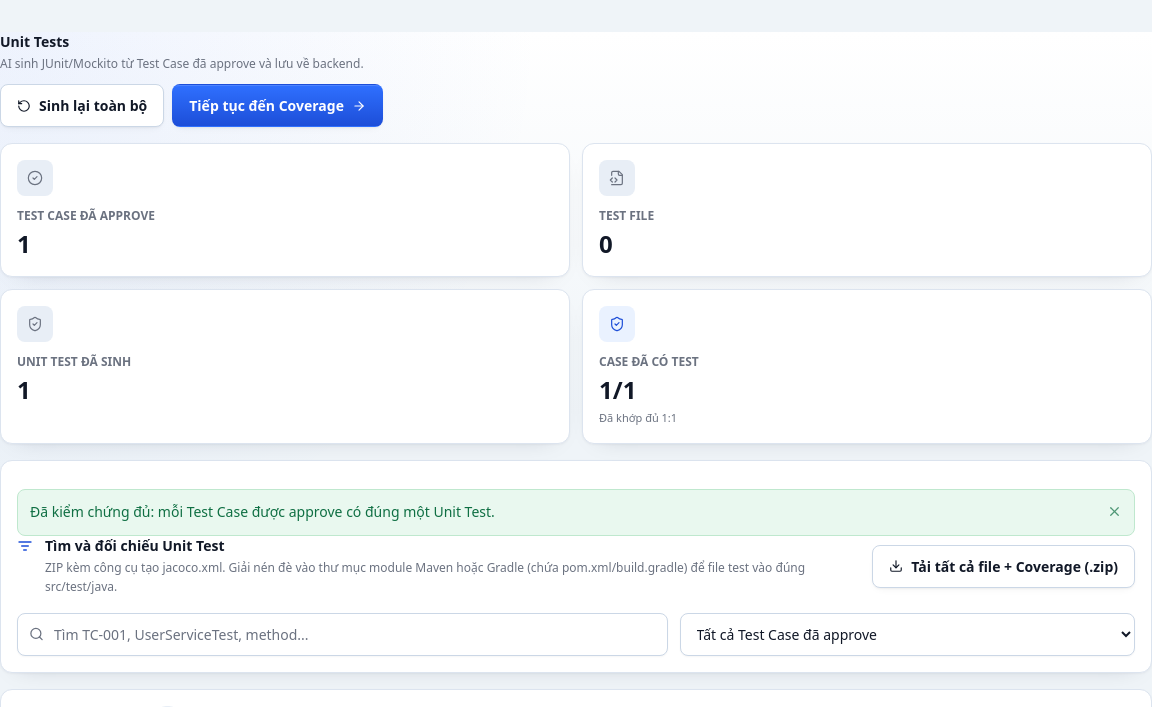
it: UnitTestsPanel › shows exact case coverage and filters by method name
This screenshot has width=1152, height=707.
Check: the text "1/1" is shown, box [599,373,636,406]
Check: the text "Đã kiểm chứng đủ" is shown, box [30,502,495,520]
Type "missing" into the field named "Tìm Unit Test" at (342, 634), box [17,612,668,656]
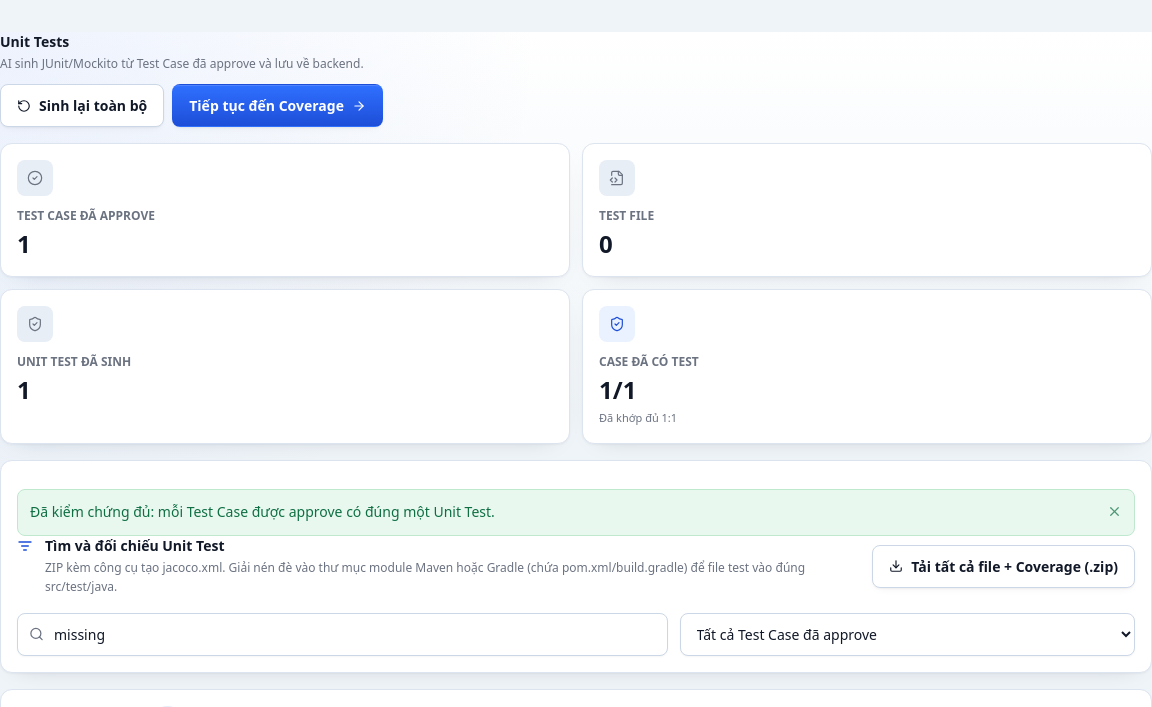
Replace the text in the field named "Tìm Unit Test" with "createUser" at (342, 634), box [17,612,668,656]
(page scrolled)
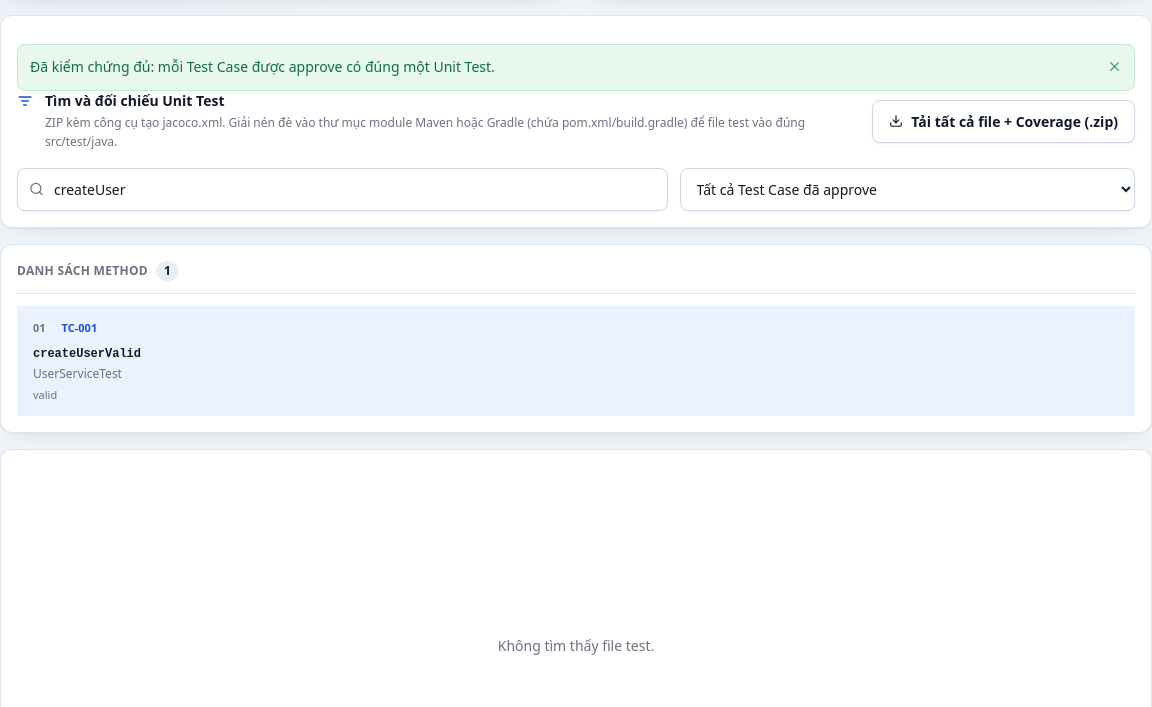
Check: the button "01 TC-001 createUserValid UserServiceTest valid" is shown, box [17,306,1135,416]
